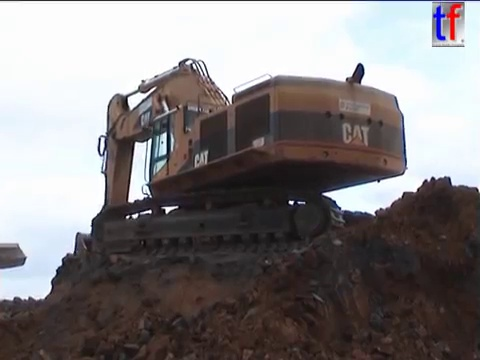excavator: (59, 55, 413, 285)
truck: (1, 240, 29, 273)
